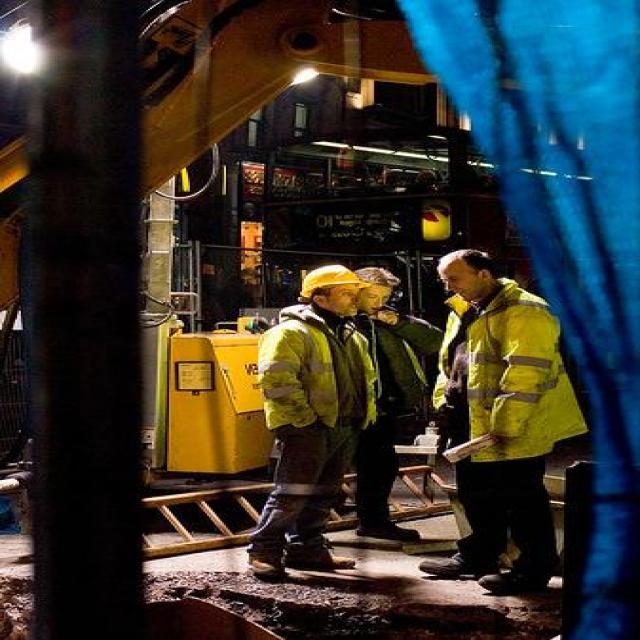Reflective-Jacket: (425, 286, 589, 468), (243, 312, 391, 442)
Safety-Helmet: (285, 254, 376, 304)
